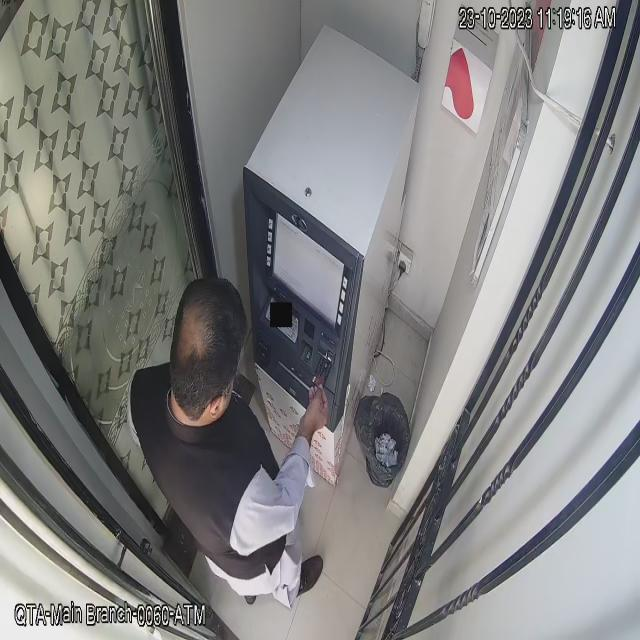atm-card: (309, 347, 336, 393)
